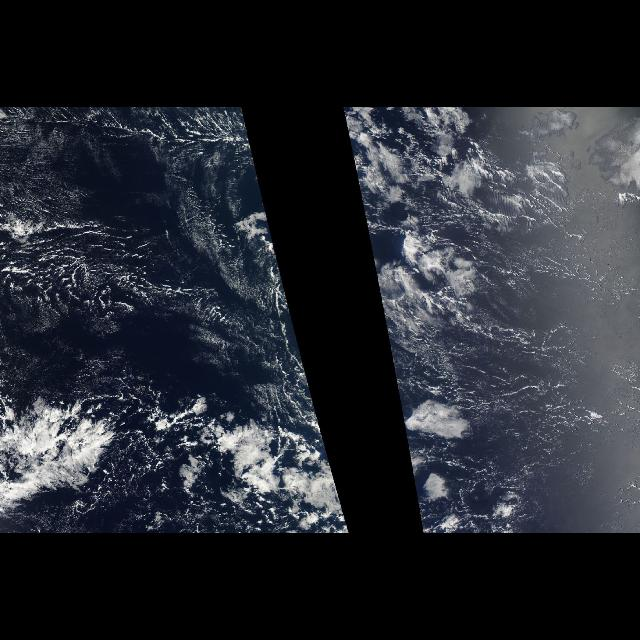Sugar: (28, 216, 286, 386)
